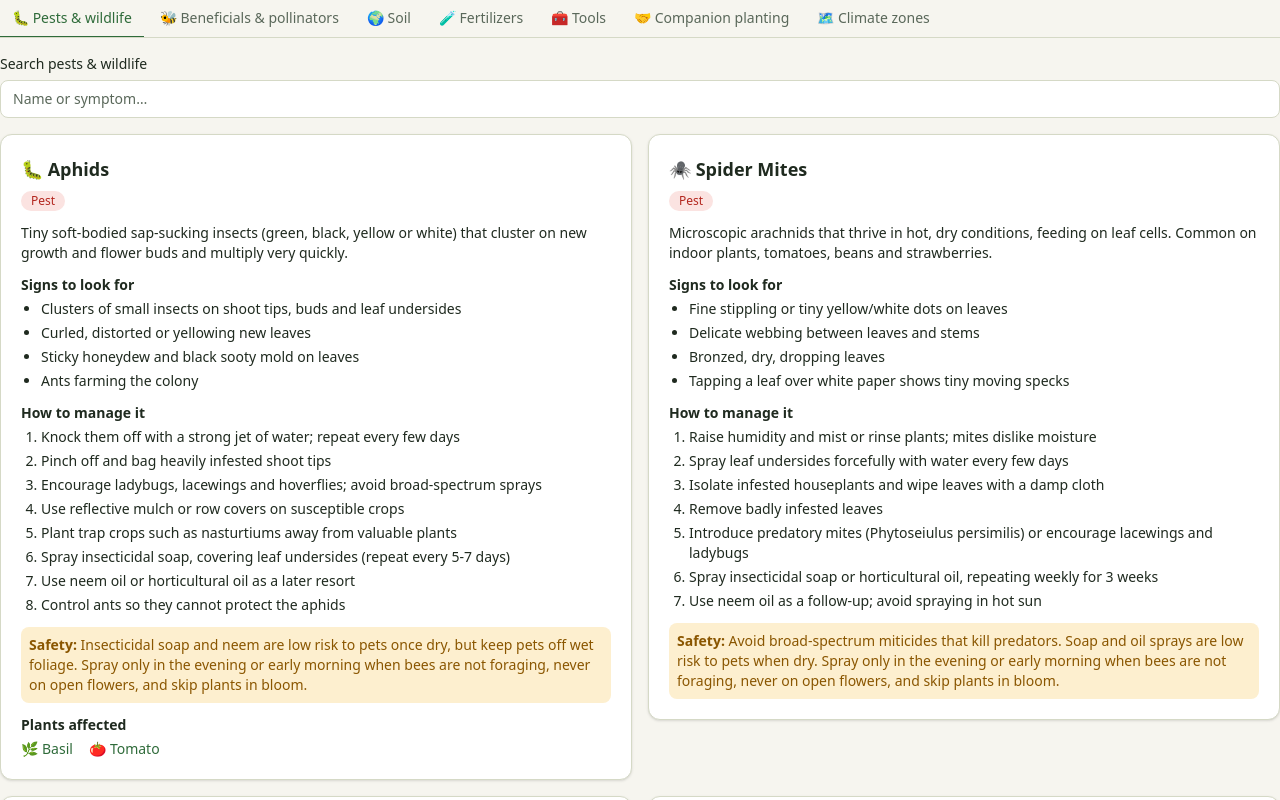
Scenario: Guides › highlights the user's zone and shows temperatures in their unit
Click the tab "🗺️ Climate zones".
click(874, 19)  # box x1=805 y1=0 x2=942 y2=38
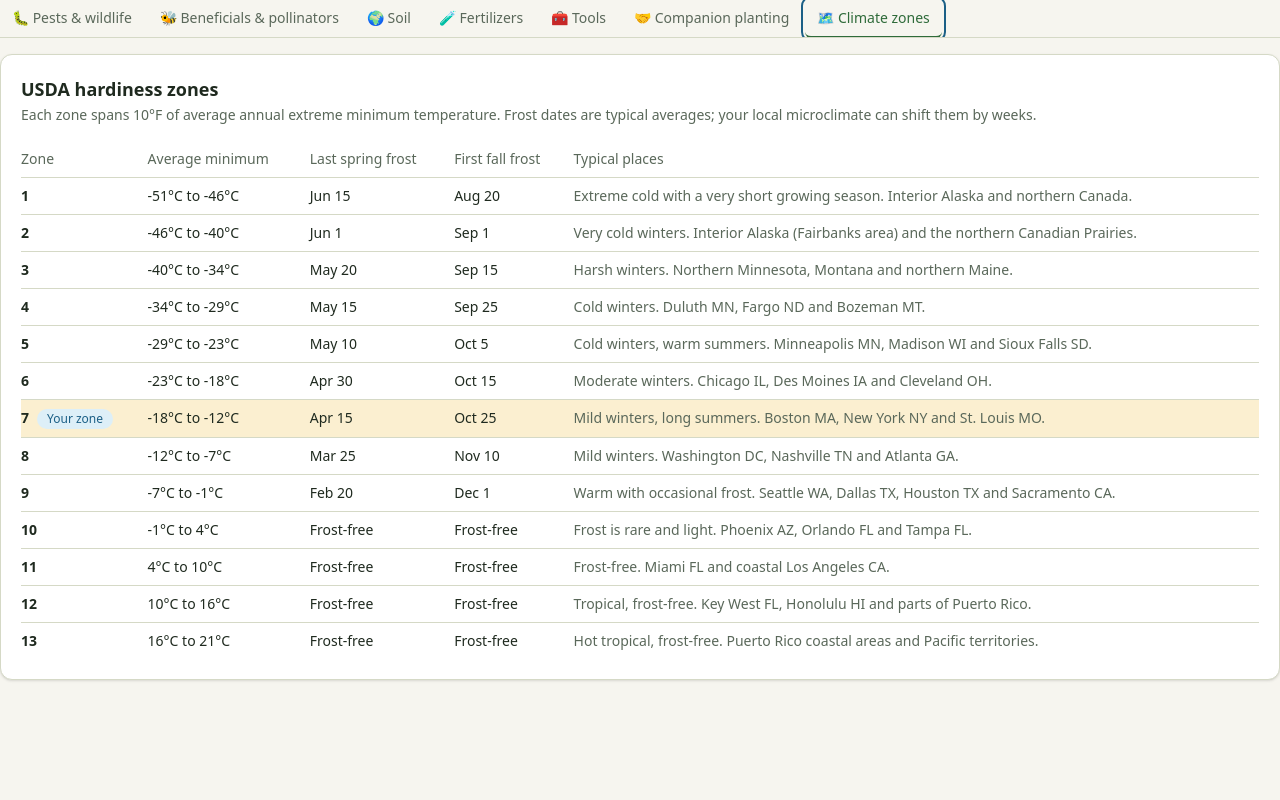
Now the text "Your zone" shows "-18°C to -12°C", box x1=21 y1=400 x2=1259 y2=438
Now the text "Your zone" shows "Apr 15", box x1=310 y1=408 x2=353 y2=427
